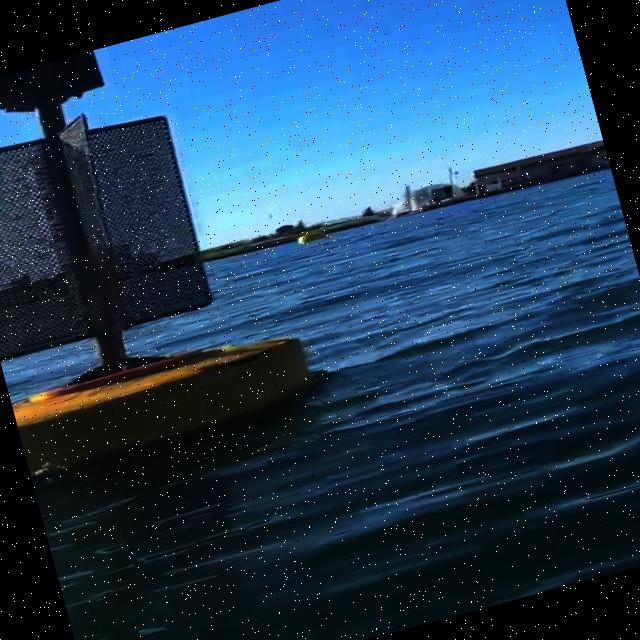marque: (1, 15, 331, 485)
